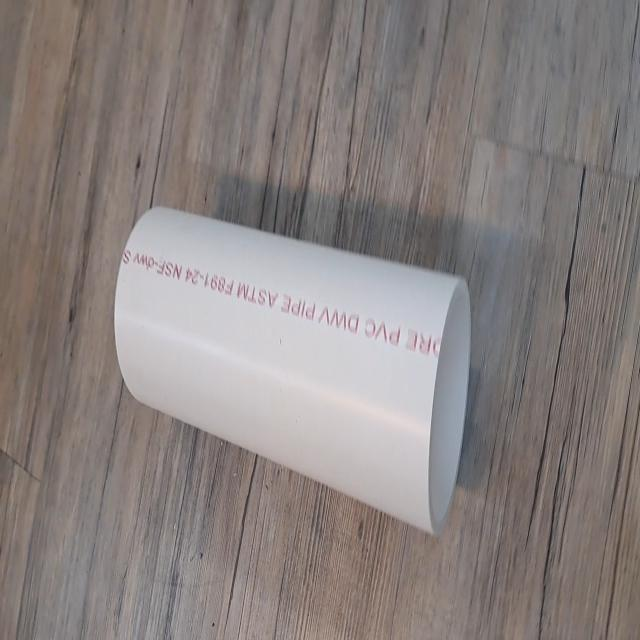CORAL: (108, 194, 476, 547)
